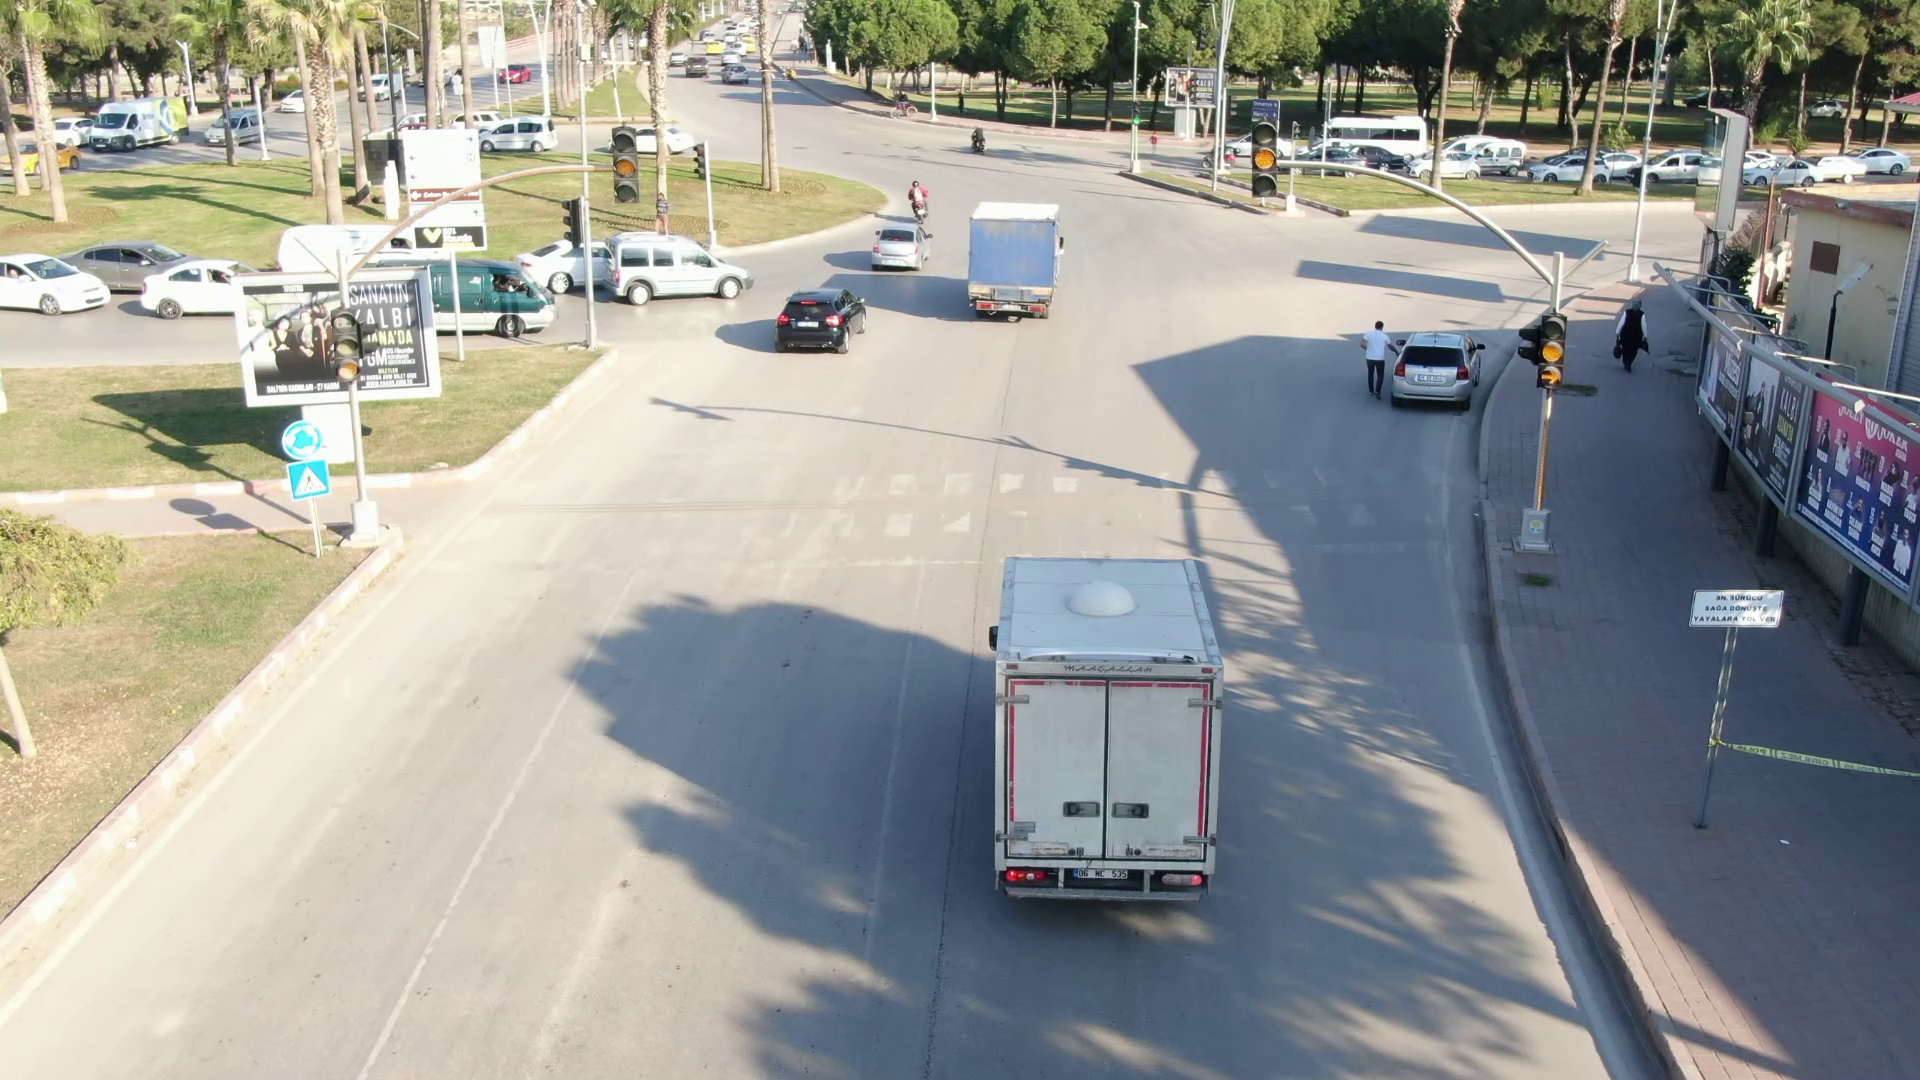car: (973, 530, 1262, 921), (955, 191, 1078, 332), (597, 223, 758, 310), (1389, 320, 1494, 418), (768, 281, 882, 359), (864, 218, 937, 278)
person: (1608, 292, 1655, 377), (1350, 314, 1392, 404)
